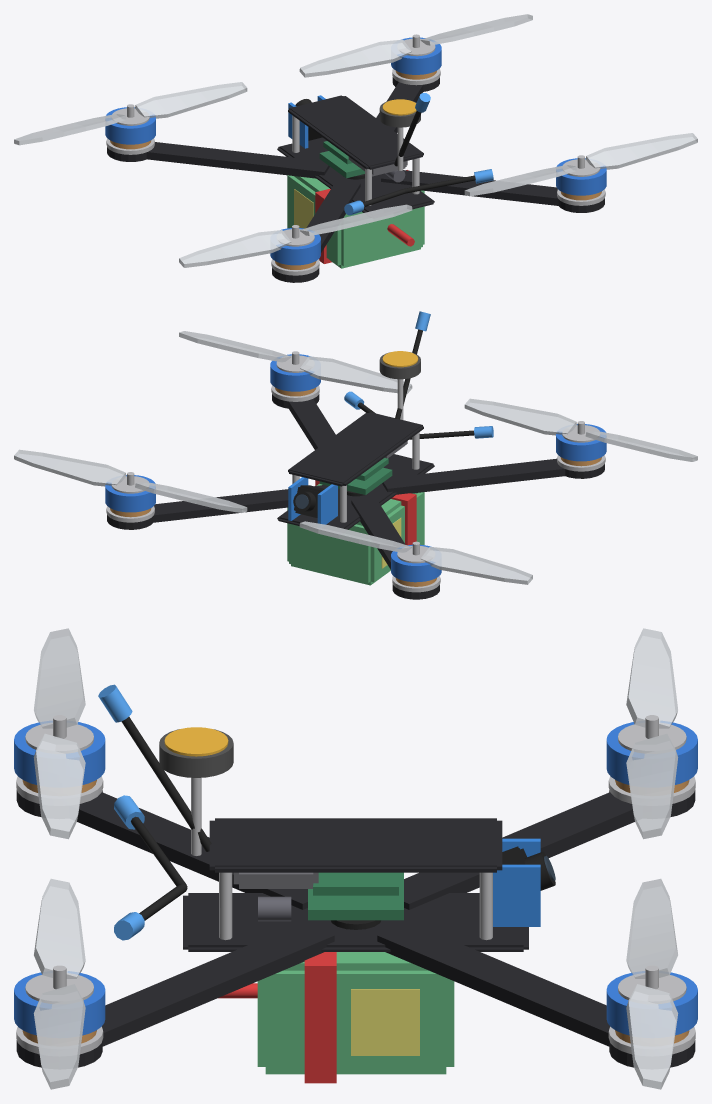
File: longrange7.glb
The picture shows the model from 3 angles, top to bottom: view 1: azimuth 30°, elevation 25°; view 2: azimuth 150°, elevation 25°; view 3: azimuth 270°, elevation 25°; orthographic projection. The views are drawn at different scales.
Parts seen in each view (by area): view 1: body, prop_FL, prop_FR, prop_RL, prop_RR, cam_mount; view 2: body, prop_FL, prop_FR, prop_RL, prop_RR, cam_mount, fpv_cam; view 3: body, prop_FL, prop_RL, prop_FR, prop_RR, cam_mount, fpv_cam.
Part boxes in pixels (bbox=[...]): body: bbox=[105, 34, 606, 282]; prop_FL: bbox=[14, 82, 364, 179]; prop_FR: bbox=[299, 14, 532, 77]; prop_RL: bbox=[179, 204, 412, 267]; prop_RR: bbox=[464, 133, 697, 196]; cam_mount: bbox=[288, 95, 325, 148]; body: bbox=[105, 311, 606, 599]; prop_FL: bbox=[299, 490, 532, 584]; prop_FR: bbox=[14, 449, 247, 512]; prop_RL: bbox=[464, 398, 697, 461]; prop_RR: bbox=[179, 331, 412, 393]; cam_mount: bbox=[288, 477, 337, 524]; fpv_cam: bbox=[293, 485, 324, 517]; body: bbox=[14, 684, 697, 1083]; prop_FL: bbox=[331, 628, 678, 929]; prop_RL: bbox=[33, 628, 85, 839]; prop_FR: bbox=[626, 878, 678, 1089]; prop_RR: bbox=[33, 878, 85, 1089]; cam_mount: bbox=[493, 838, 540, 926]; fpv_cam: bbox=[502, 846, 555, 890].
Size of the model in its own units: 0.4006 by 0.1479 by 0.2572.
